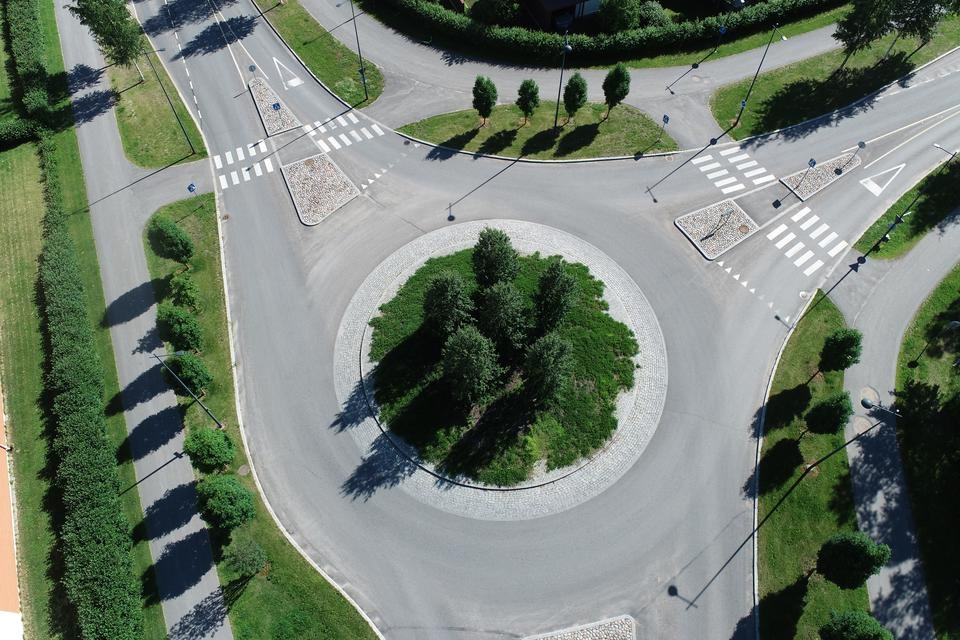roundabout: (208, 120, 787, 621)
